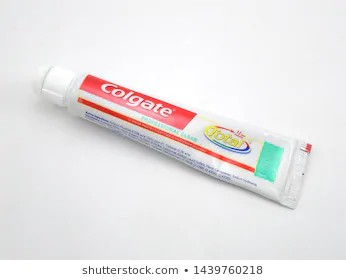colgate-total-150gm: (33, 52, 321, 210)
